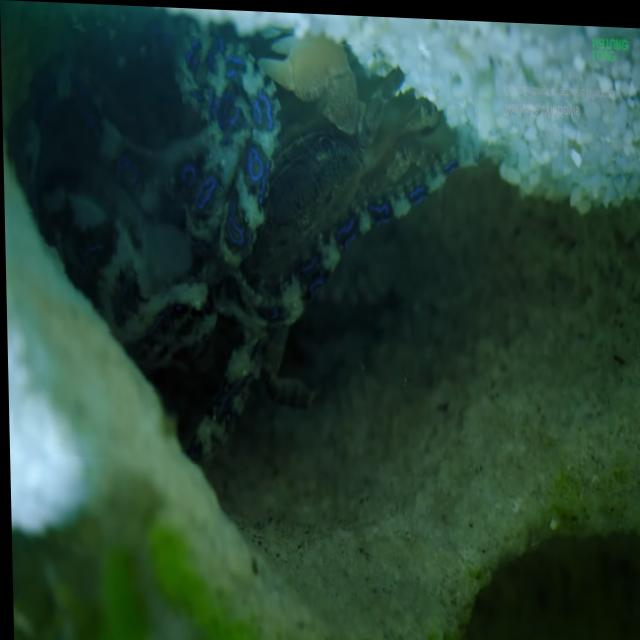blue_ringed_octopus: (5, 26, 484, 476)
